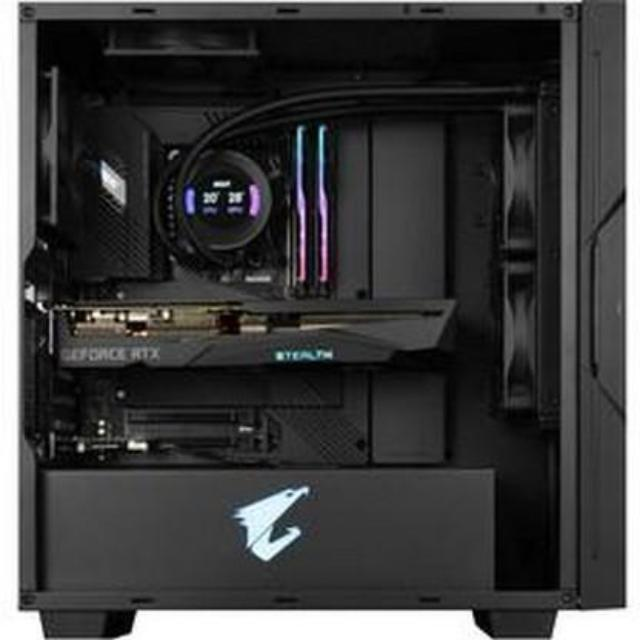GPU: (39, 269, 464, 386)
